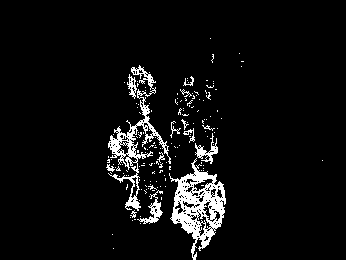person: (173, 153, 228, 260), (136, 120, 171, 228), (109, 121, 147, 215), (162, 115, 201, 188), (201, 76, 226, 158), (176, 75, 201, 144)
